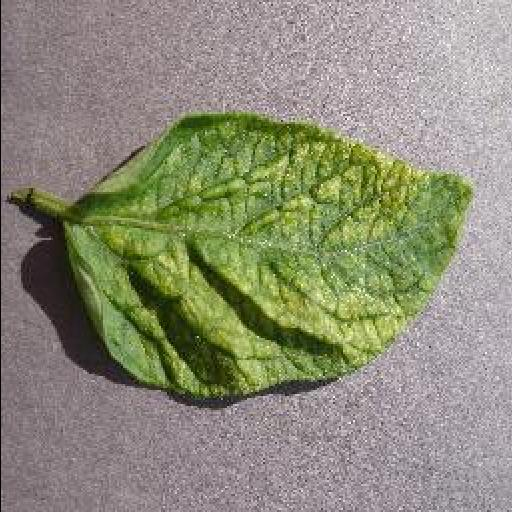disease_tomato: (62, 112, 472, 402)
